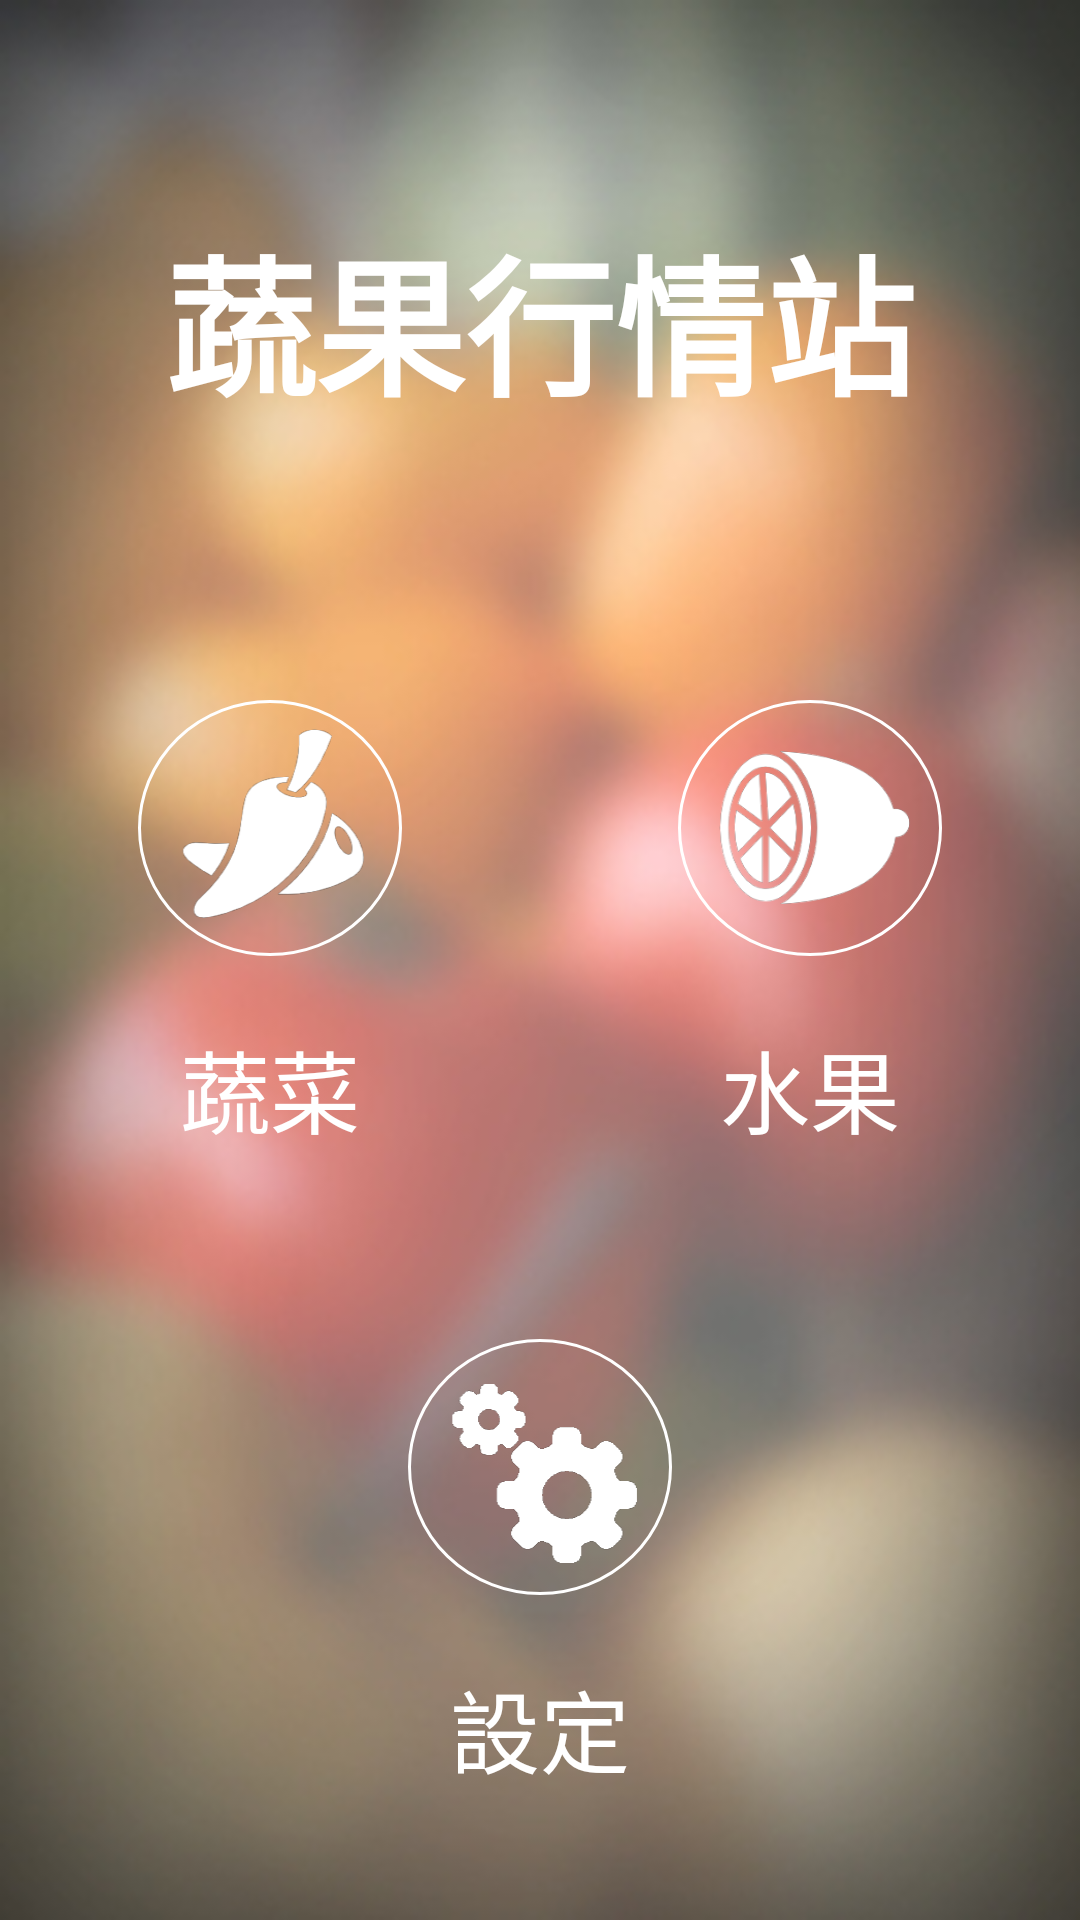

Named icons in this screenshot (1080*1920) and their centers, (x,y):
fruit: (810,828)
settings: (540,1467)
vegetable: (270,828)
